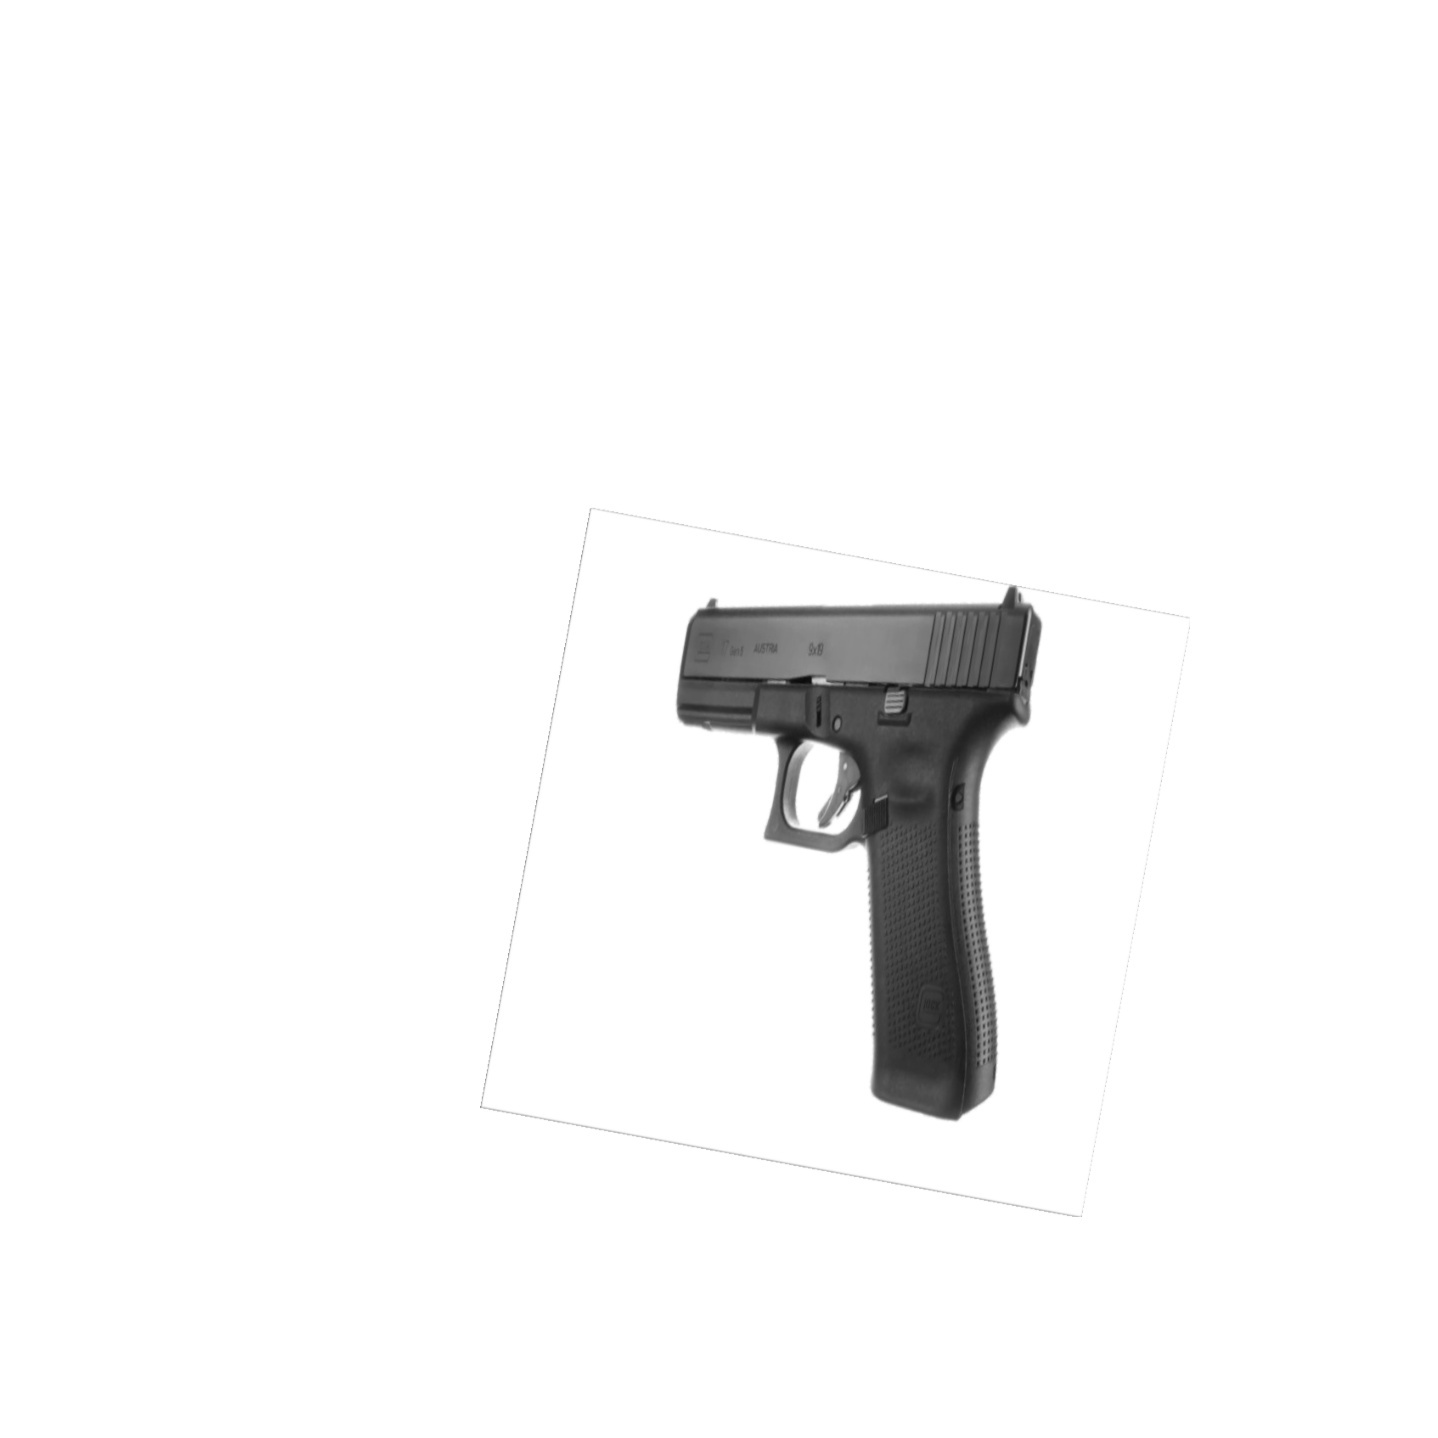gun: (672, 579, 1052, 1127)
